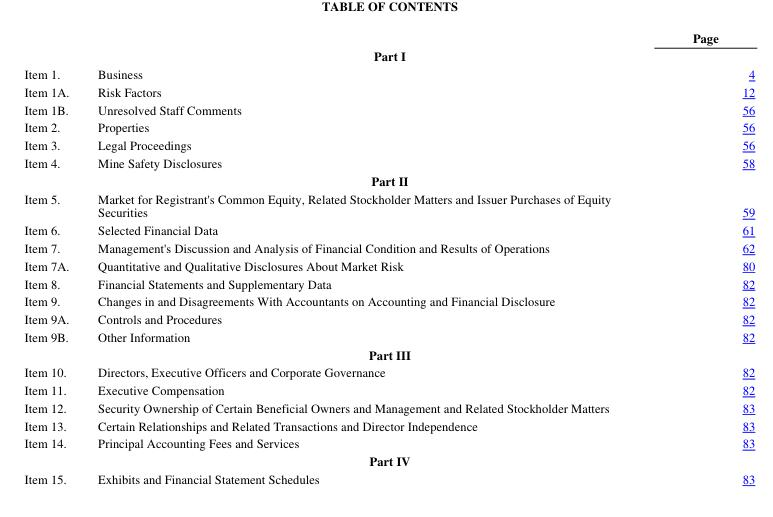table: (23, 28, 754, 486)
table column: (82, 28, 651, 486), (651, 28, 754, 486), (23, 28, 82, 486)
table column header: (23, 28, 754, 46)
table projected row header: (23, 170, 754, 189), (23, 46, 754, 64), (23, 344, 754, 362), (23, 451, 754, 469)
table row: (23, 189, 754, 220), (23, 170, 754, 189), (23, 28, 754, 46), (23, 46, 754, 64), (23, 64, 754, 82), (23, 99, 754, 117), (23, 117, 754, 135), (23, 135, 754, 153), (23, 220, 754, 238), (23, 255, 754, 273), (23, 273, 754, 291), (23, 291, 754, 309), (23, 326, 754, 344), (23, 344, 754, 362), (23, 362, 754, 380), (23, 380, 754, 398), (23, 415, 754, 433), (23, 433, 754, 451), (23, 451, 754, 469), (23, 82, 754, 99), (23, 153, 754, 170), (23, 238, 754, 255), (23, 309, 754, 326), (23, 398, 754, 415), (23, 469, 754, 486)
